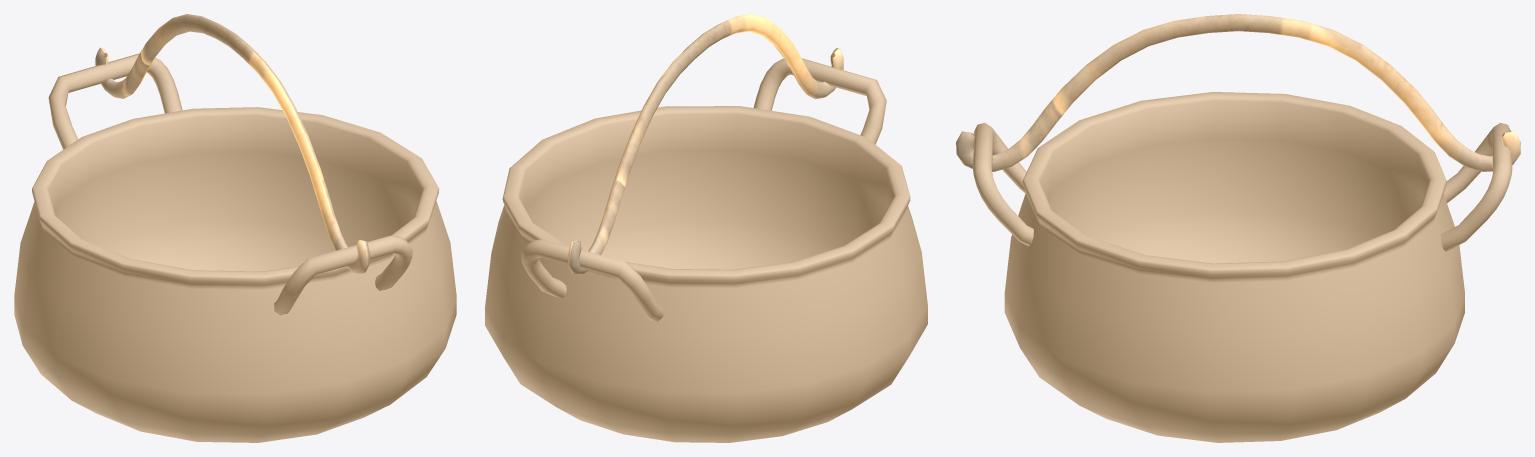
File: SM_CookingPot.fbx
The picture shows the model from 3 angles, left to right: view 1: azimuth 30°, elevation 25°; view 2: azimuth 150°, elevation 25°; view 3: azimuth 270°, elevation 25°; orthographic projection. The views are drawn at different scales.
Parts seen in each view (by area): view 1: SM_CookingPot_LOD0; view 2: SM_CookingPot_LOD0; view 3: SM_CookingPot_LOD0.
Part boxes in pixels (x1,y1,x2,y2): SM_CookingPot_LOD0: [14, 14, 456, 442]; SM_CookingPot_LOD0: [485, 14, 927, 442]; SM_CookingPot_LOD0: [956, 14, 1520, 442].
Bounding box in the file's own units: 88.79 × 109 × 78.49.
